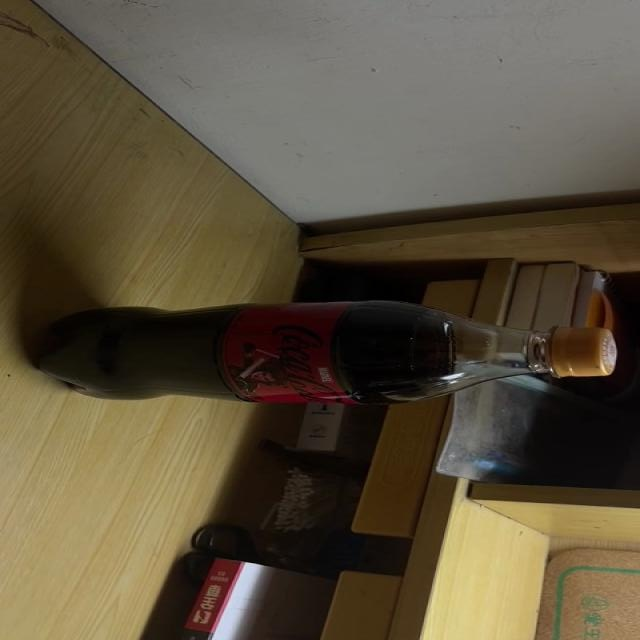Coca-Cola: (31, 302, 619, 402)
